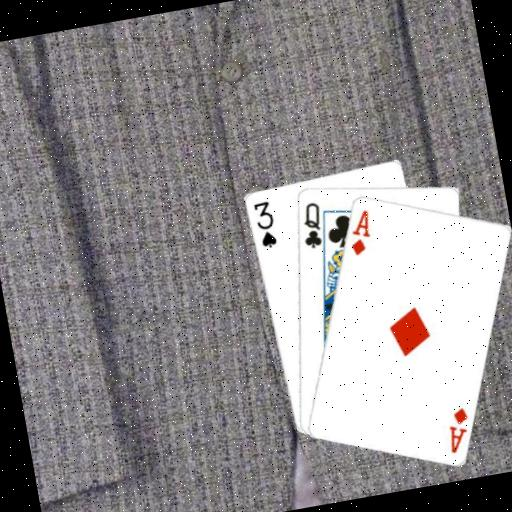3S: (249, 196, 279, 250)
AD: (341, 205, 377, 258), (440, 403, 475, 455)
QC: (294, 197, 327, 251)
